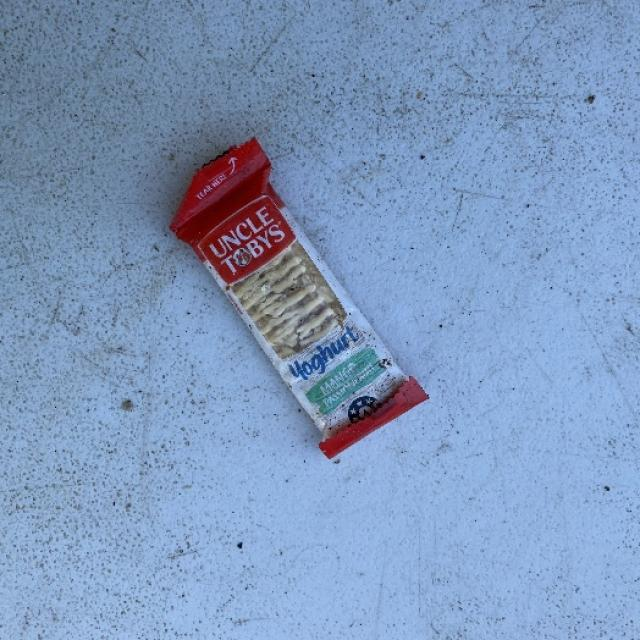plastic: (168, 136, 428, 459)
